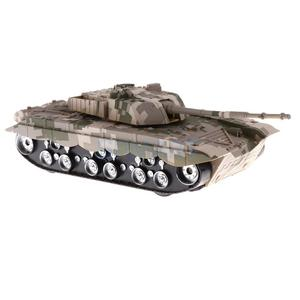Battle Tank: (5, 83, 291, 196)
